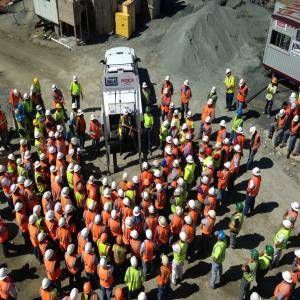blue: (218, 231, 227, 242), (19, 116, 26, 126), (18, 104, 24, 113), (68, 121, 74, 129), (238, 110, 244, 118)
none: (284, 102, 289, 110)
red: (207, 148, 214, 158)
white: (284, 271, 294, 287), (2, 267, 10, 283), (46, 249, 55, 262), (70, 289, 80, 300), (47, 210, 56, 222), (42, 279, 51, 291), (131, 230, 140, 242), (125, 218, 134, 229), (283, 220, 292, 231), (30, 215, 38, 227), (68, 244, 76, 256), (85, 243, 93, 255), (101, 257, 109, 269), (131, 257, 139, 269), (160, 217, 168, 229), (162, 256, 170, 268), (180, 232, 188, 244), (293, 203, 300, 216), (25, 180, 34, 190), (62, 187, 70, 198), (35, 161, 43, 172), (12, 184, 20, 195), (16, 203, 24, 214), (34, 206, 42, 217), (134, 207, 142, 218), (252, 292, 263, 300), (66, 205, 74, 215), (60, 218, 68, 228), (39, 233, 47, 243), (82, 229, 90, 239), (146, 230, 154, 240), (210, 211, 218, 221), (254, 168, 262, 178), (234, 145, 242, 155), (139, 292, 149, 300), (95, 215, 102, 226), (105, 189, 112, 200), (143, 191, 150, 202), (149, 206, 156, 217), (18, 177, 26, 186), (186, 134, 194, 143), (70, 149, 77, 159), (75, 165, 82, 175), (45, 191, 52, 201), (9, 154, 16, 164), (124, 198, 131, 208), (156, 184, 163, 194), (175, 188, 182, 198), (186, 216, 193, 226), (190, 201, 197, 211), (210, 188, 217, 198), (166, 147, 173, 157), (1, 166, 7, 177), (90, 175, 96, 186), (177, 206, 183, 217), (40, 154, 48, 162), (46, 111, 53, 120), (56, 176, 63, 185), (25, 152, 32, 161), (21, 140, 28, 149), (103, 178, 110, 187), (119, 190, 126, 199), (133, 177, 140, 186), (203, 177, 210, 186), (188, 156, 195, 165), (226, 162, 233, 171), (208, 161, 215, 170), (208, 100, 215, 109), (72, 138, 78, 148), (56, 203, 62, 213), (105, 203, 111, 213), (112, 210, 118, 220), (112, 182, 118, 192), (183, 124, 189, 134), (56, 133, 63, 141), (50, 148, 57, 156), (51, 166, 58, 174), (35, 133, 42, 141), (155, 171, 162, 179), (216, 143, 223, 151), (238, 128, 245, 136), (90, 201, 95, 212), (77, 148, 83, 157), (69, 164, 75, 173), (50, 132, 56, 141), (37, 106, 43, 115), (124, 173, 130, 182), (143, 162, 149, 171), (154, 160, 160, 169), (179, 178, 185, 187), (174, 160, 180, 169), (173, 139, 179, 148), (170, 103, 176, 112), (172, 121, 178, 130), (188, 112, 194, 121), (251, 127, 257, 136), (240, 79, 246, 88), (91, 115, 97, 123), (58, 153, 64, 161), (58, 126, 64, 134), (31, 87, 37, 95), (14, 90, 20, 98), (167, 137, 173, 145), (225, 139, 231, 147), (165, 121, 171, 129), (212, 87, 218, 95), (206, 117, 212, 125), (221, 121, 227, 129), (296, 250, 300, 262), (280, 110, 286, 118), (124, 110, 129, 119), (294, 116, 299, 125), (204, 137, 210, 144), (53, 85, 58, 93), (73, 104, 78, 112), (79, 110, 84, 118), (25, 94, 30, 102), (143, 83, 148, 91), (175, 111, 180, 119), (165, 89, 170, 97), (185, 81, 190, 89), (227, 70, 232, 78), (292, 93, 297, 101), (74, 76, 78, 85), (166, 77, 171, 84)
yellow: (116, 288, 125, 300), (84, 283, 92, 295), (78, 183, 85, 194), (102, 233, 109, 244), (118, 236, 125, 247), (34, 120, 41, 130), (144, 179, 151, 189), (91, 191, 97, 201), (18, 159, 25, 167), (128, 183, 134, 191), (57, 104, 62, 113), (35, 79, 40, 87), (273, 78, 278, 86)
